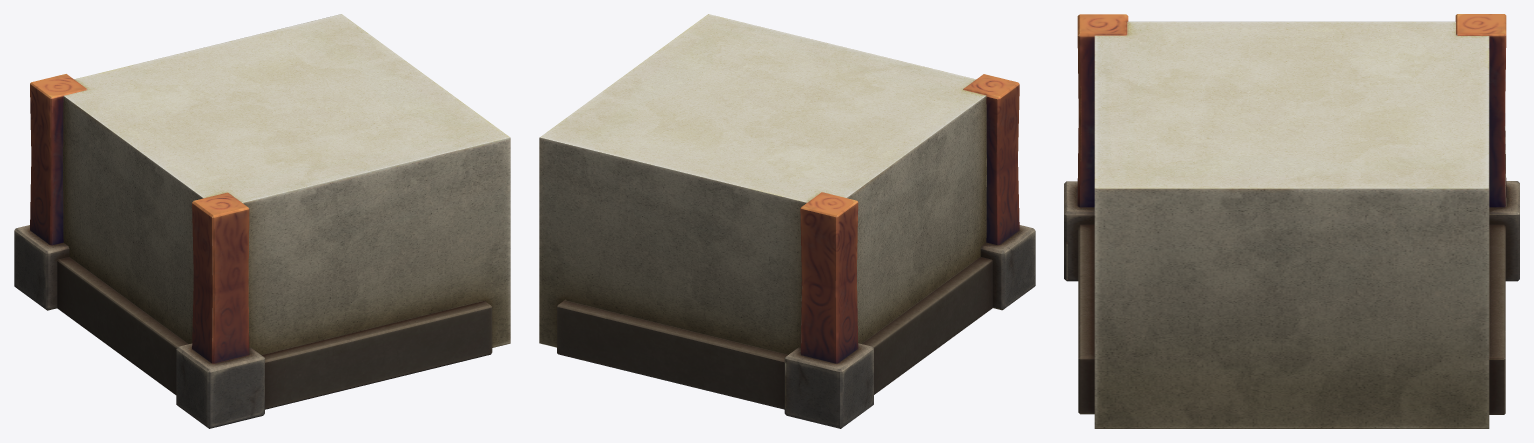
File: BaseLowerEnd.dae
The picture shows the model from 3 angles, left to right: view 1: azimuth 30°, elevation 25°; view 2: azimuth 150°, elevation 25°; view 3: azimuth 270°, elevation 25°; orthographic projection. The views are drawn at different scales.
Parts seen in each view (by area): view 1: Cube_000; view 2: Cube_000; view 3: Cube_000.
Part boxes in pixels (x1=…): Cube_000: x1=14, y1=14, x2=510, y2=428; Cube_000: x1=539, y1=14, x2=1035, y2=428; Cube_000: x1=1064, y1=14, x2=1519, y2=428.
Size of the model in its own units: 6.39 by 6.85 by 4.01.
1 material, 1 textured.
